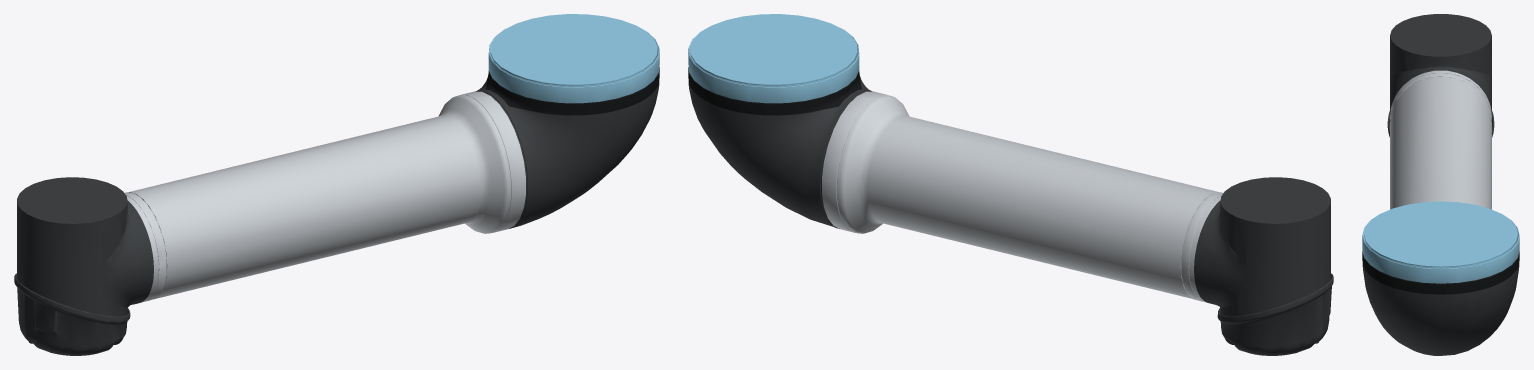
The picture shows the model from 3 angles, left to right: view 1: azimuth 30°, elevation 25°; view 2: azimuth 150°, elevation 25°; view 3: azimuth 270°, elevation 25°; orthographic projection. The views are drawn at different scales.
Visible parts, largest first — view 1: link; view 2: link; view 3: link.
Part boxes in pixels (x1,y1,x2,y2): link: (14,14,659,355); link: (688,14,1333,355); link: (1362,14,1519,355).
Bounding box in the file's own units: 0.4895 × 0.116 × 0.1251.
